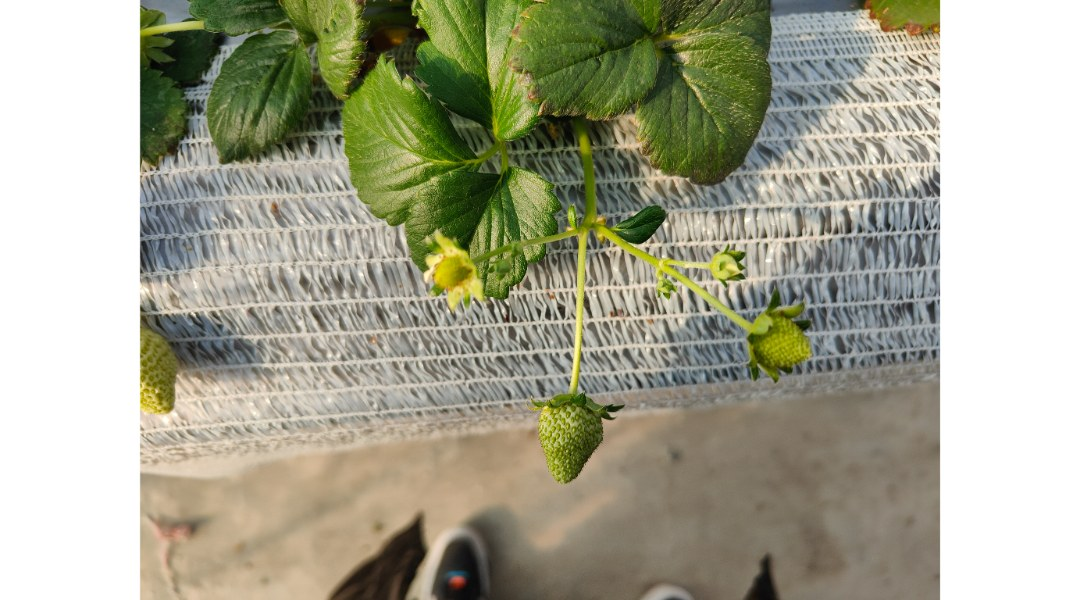berry: (121, 317, 199, 452), (528, 383, 617, 493), (730, 299, 820, 378), (417, 239, 489, 323), (703, 248, 753, 288)
strain: (565, 239, 592, 387), (675, 275, 747, 326), (574, 119, 608, 222), (498, 229, 571, 255), (604, 232, 654, 262)
